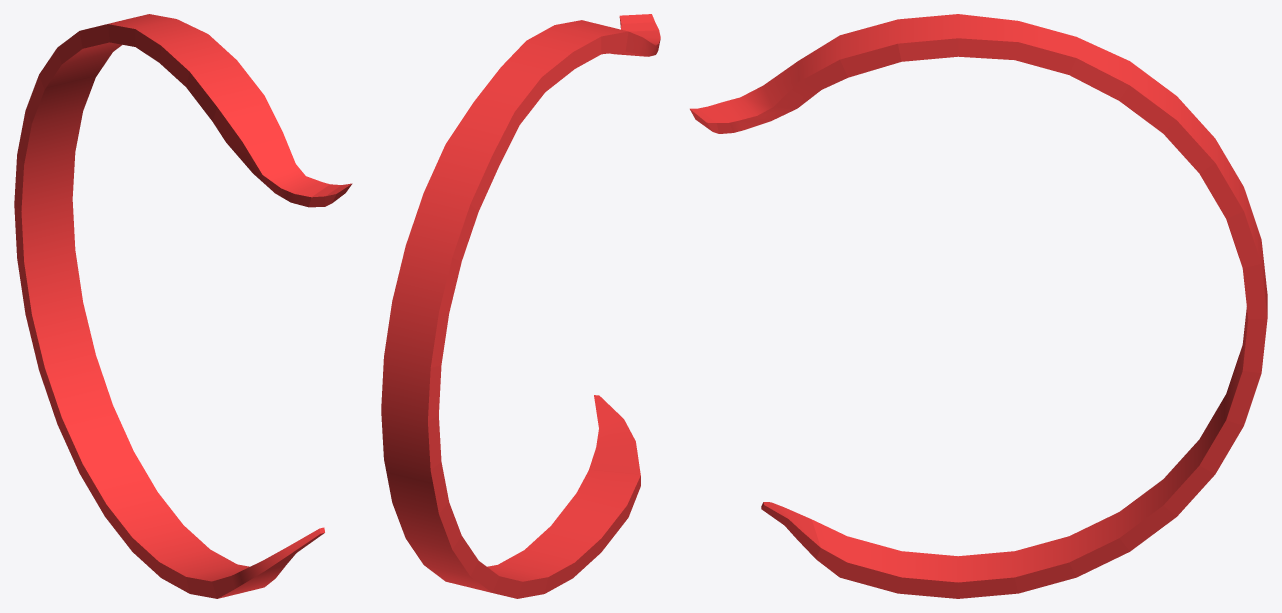
Rendered from metalContourn.fbx.
The picture shows the model from 3 angles, left to right: view 1: azimuth 30°, elevation 25°; view 2: azimuth 150°, elevation 25°; view 3: azimuth 270°, elevation 25°; orthographic projection. The views are drawn at different scales.
Parts seen in each view (by area): view 1: metal_contourn; view 2: metal_contourn; view 3: metal_contourn.
Boxes of the visible parts, x1,y1,x2,y2 form: metal_contourn: (14,14,352,598); metal_contourn: (381,14,660,598); metal_contourn: (690,14,1267,598).
Size of the model in its own units: 53.44 by 366 by 342.
